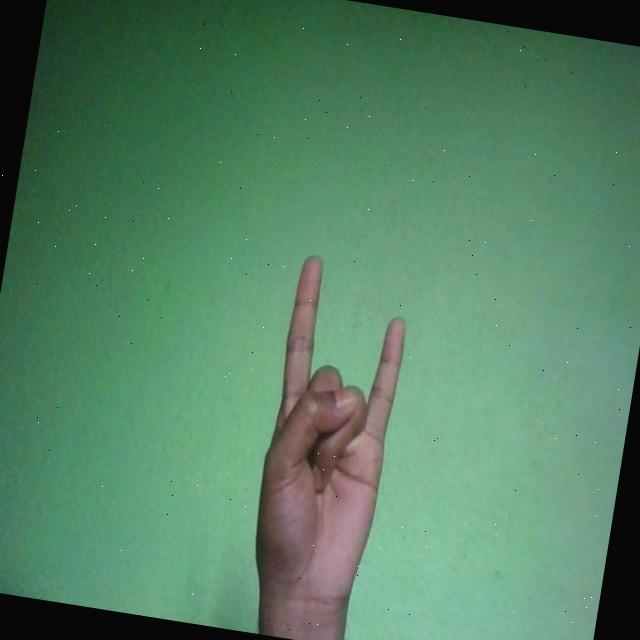open Plam: (240, 251, 418, 623)
